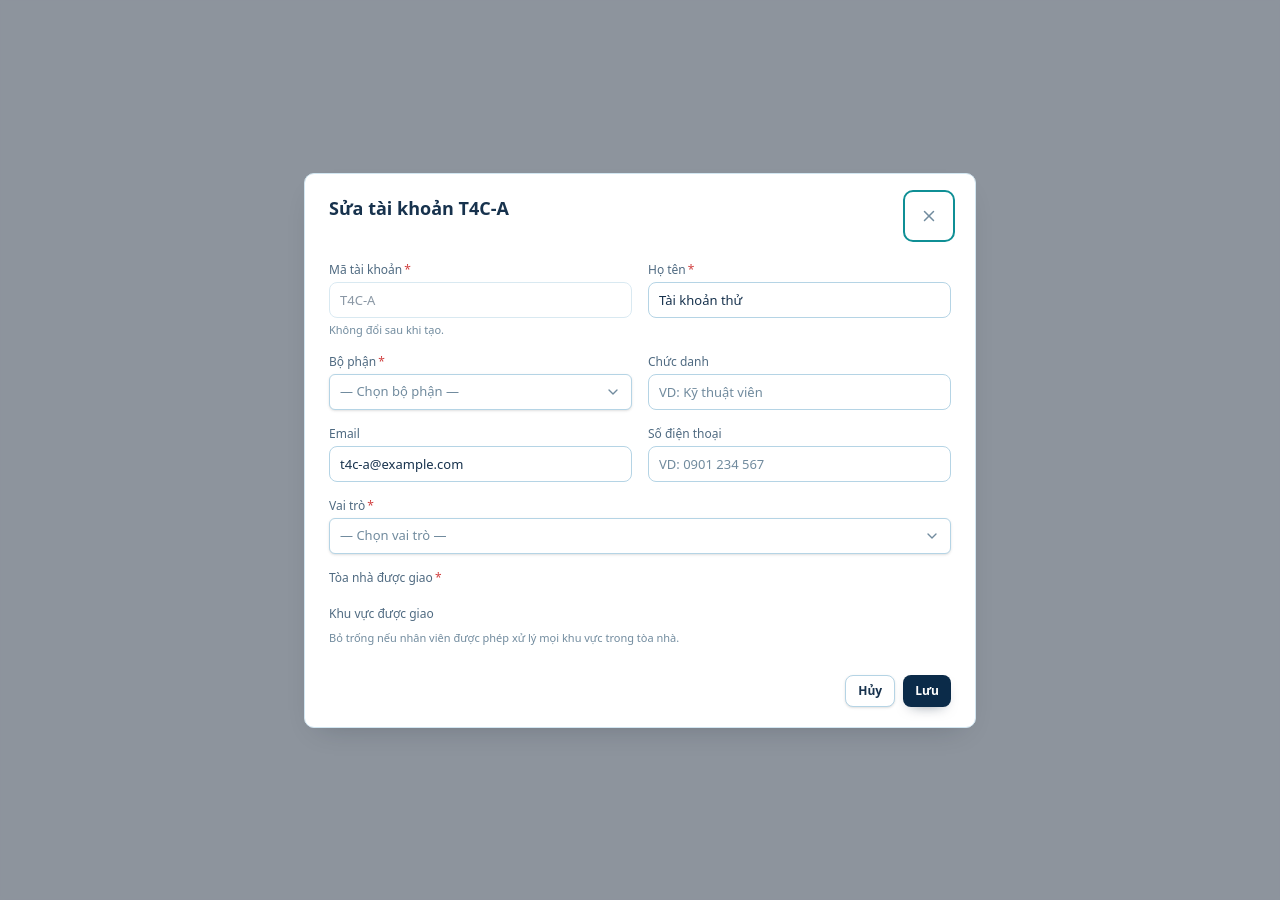
Test case: UserDialog duplicate account errors › should not offer the login name when editing and still show the email error under its field
The image size is (1280, 900).
Replace the text in the field labelled "Email" with "t4c-b@example.com" at (480, 464), box [329,446,632,482]
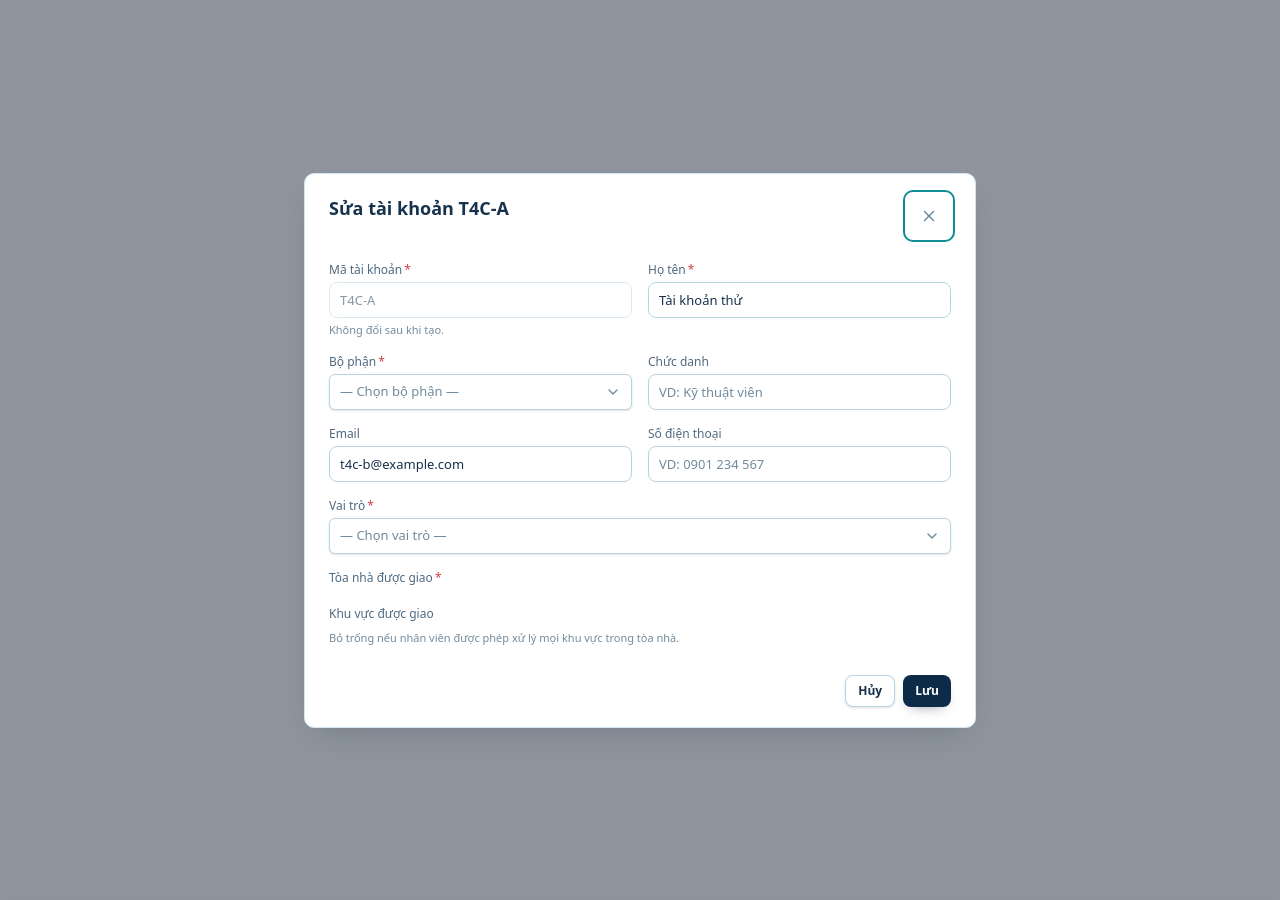
Click the button "Lưu".
click(927, 690)  # box [903,674,951,706]
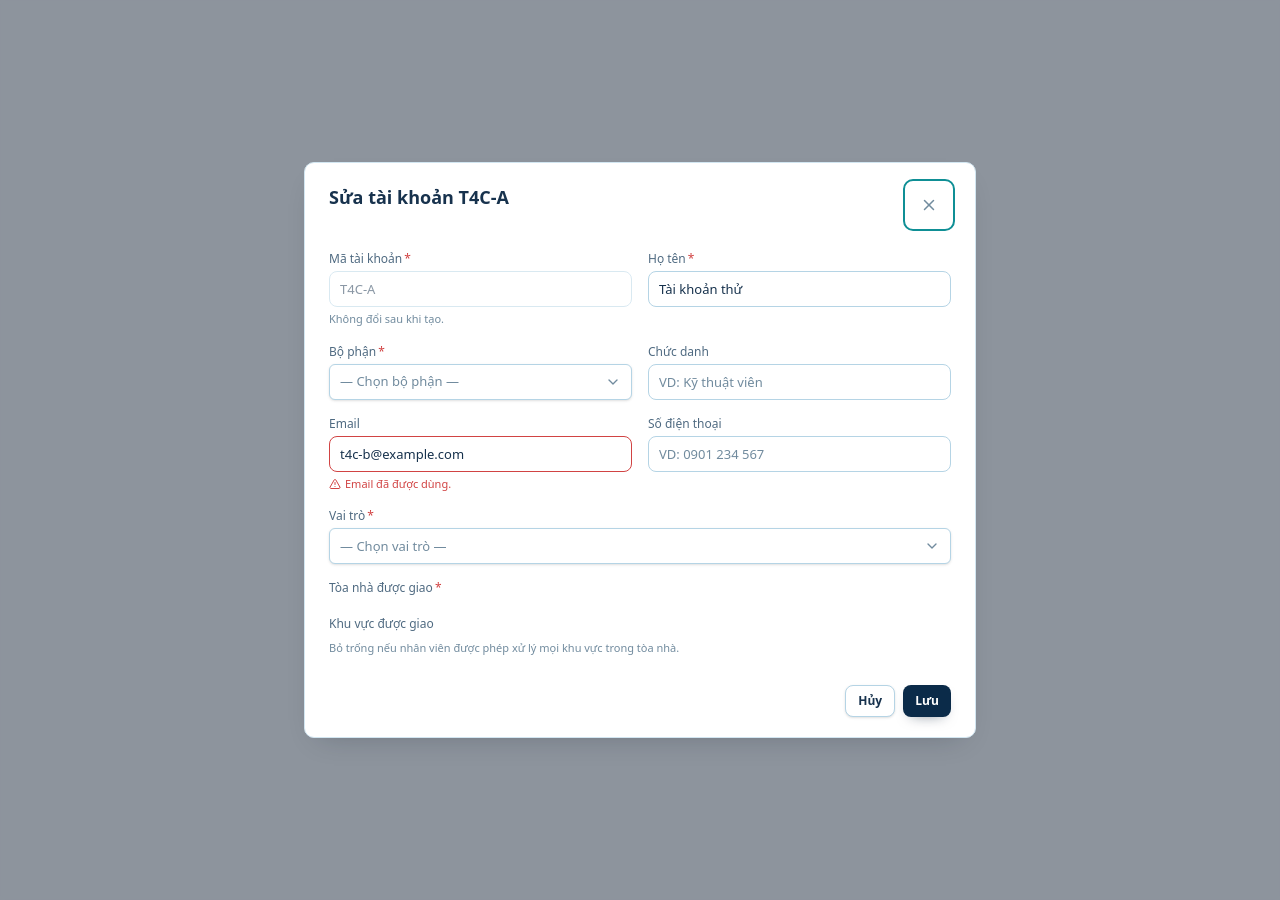
Result: the messages read "Email đã được dùng.", in this order at [329,476,451,491]
